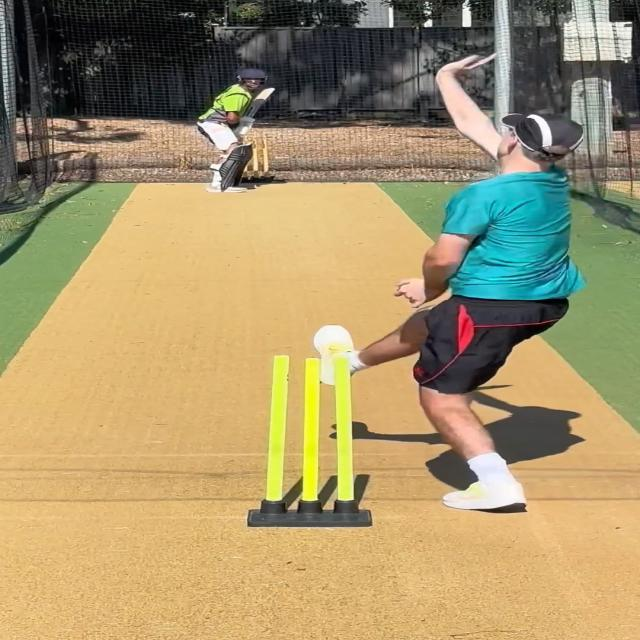stump: (246, 354, 372, 526), (244, 132, 270, 184)
